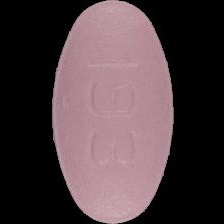63629-3973: (0, 0, 224, 224)
